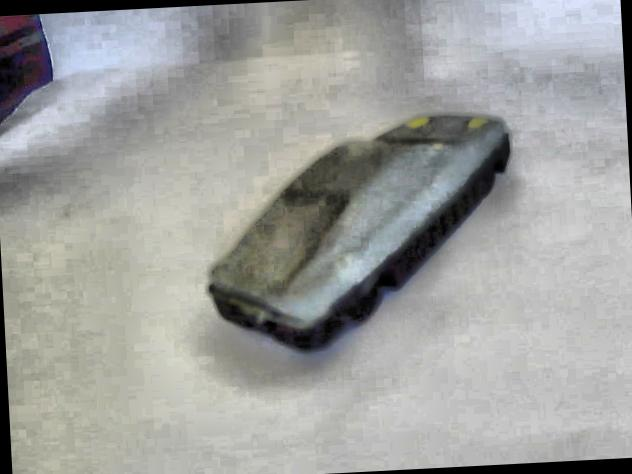normal_car: (186, 99, 528, 362)
